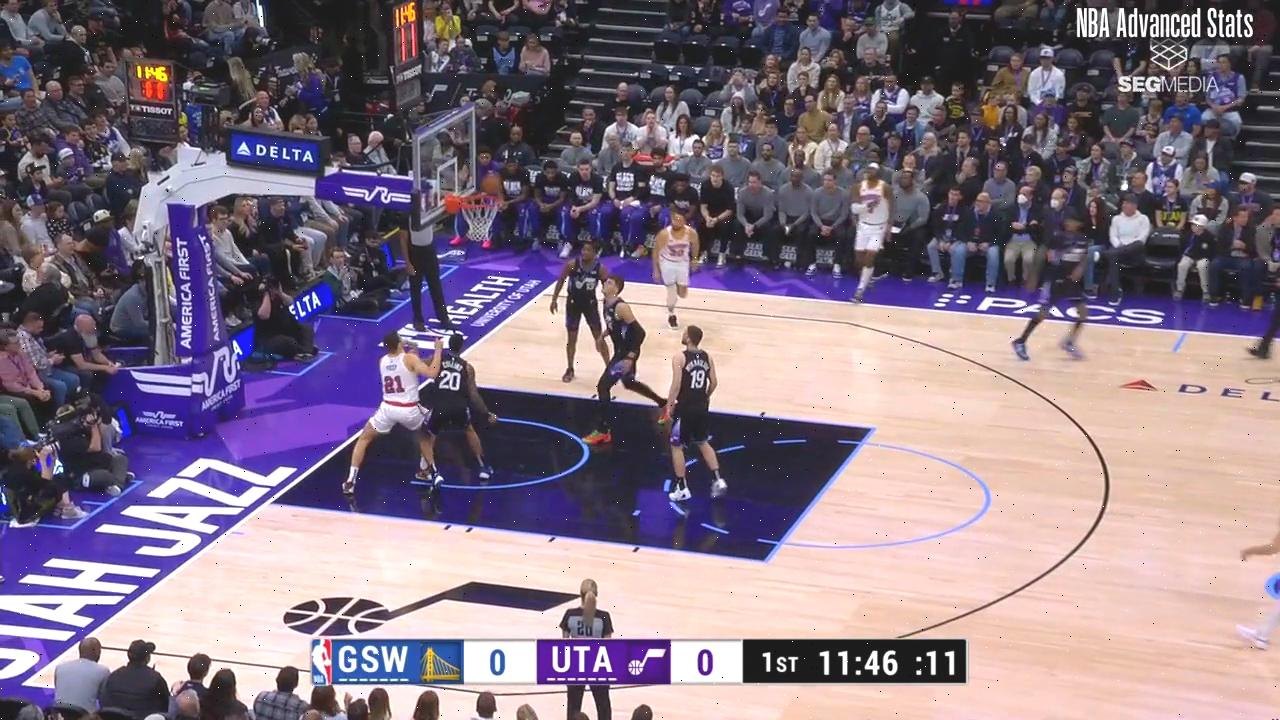basketball: (480, 173, 506, 196)
